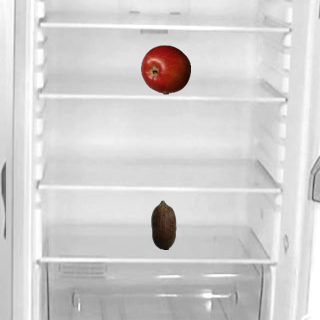Apple Braeburn: (140, 44, 190, 94)
Nut Pecan: (138, 199, 188, 249)
